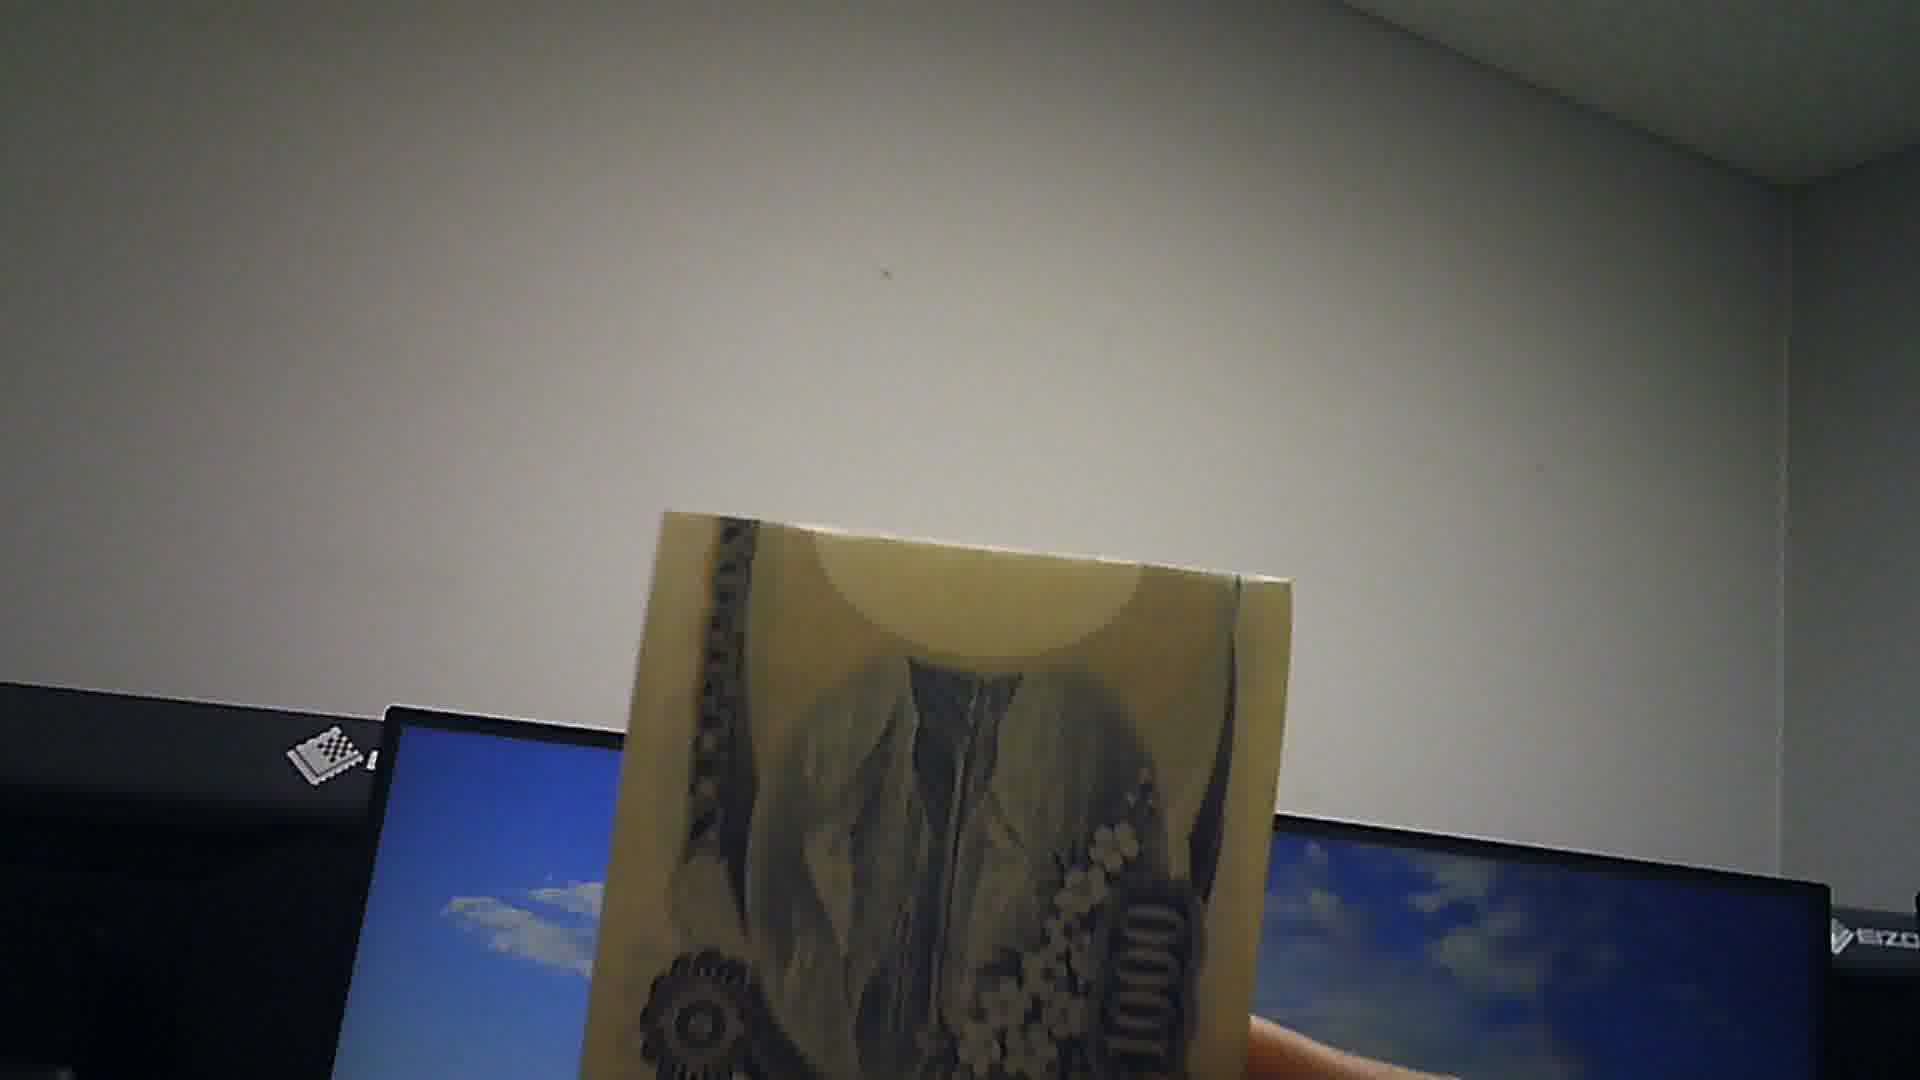1,000 Yen: (605, 505, 1290, 1079)
